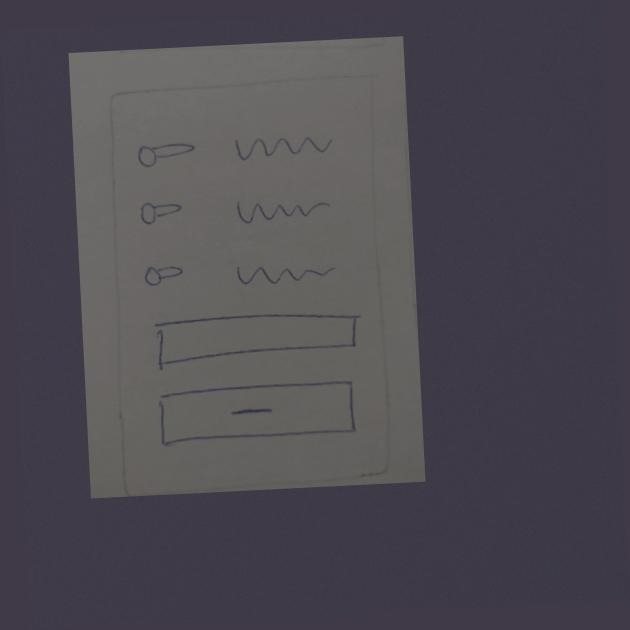button: (149, 375, 363, 451)
switch: (131, 132, 201, 176), (135, 195, 192, 232), (138, 256, 194, 292)
text: (228, 248, 344, 300), (222, 119, 340, 170), (228, 188, 336, 229)
text_input: (146, 302, 364, 373)
